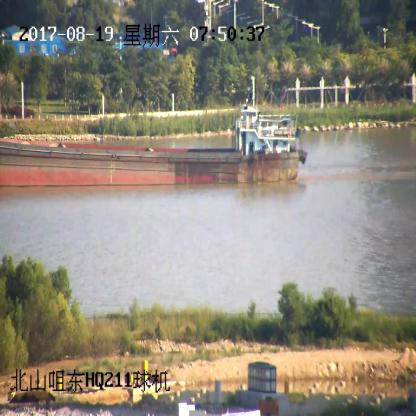Bulk Carrier: (0, 96, 307, 186)
